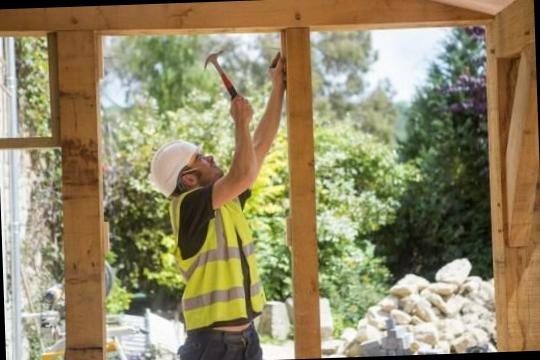Vest: (166, 184, 264, 334)
